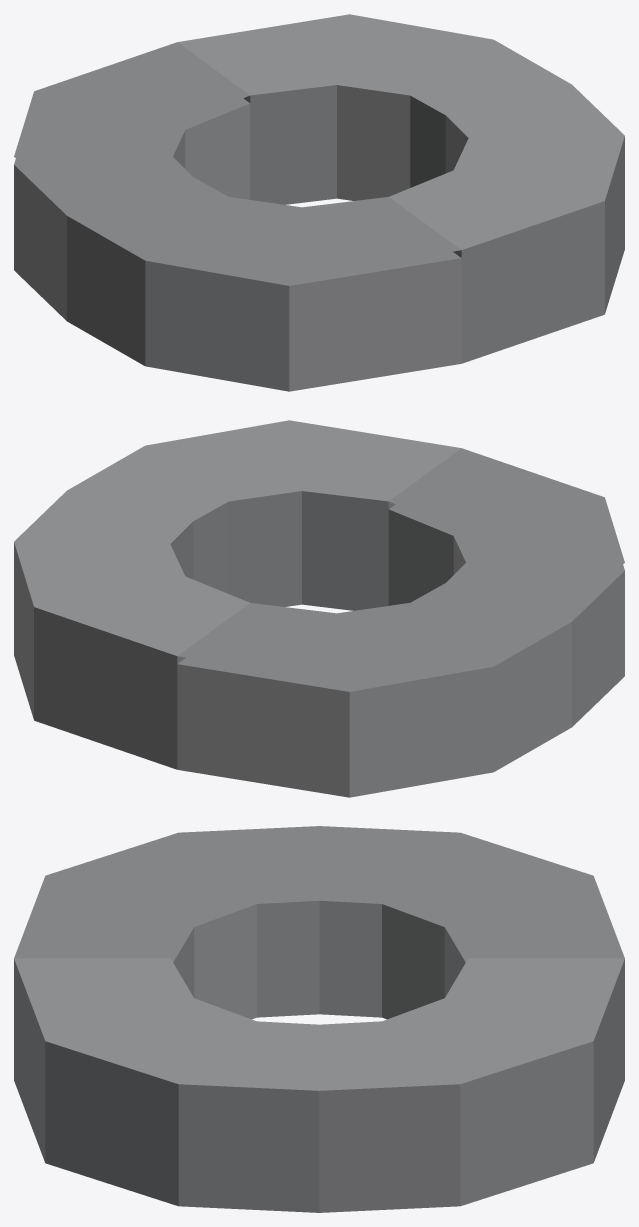
3 renders of one model, top to bottom at view 1: azimuth 30°, elevation 25°; view 2: azimuth 150°, elevation 25°; view 3: azimuth 270°, elevation 25°, orthographic. The views are drawn at different scales.
Size of the model in its own units: 0.8 by 0.172 by 0.78.
